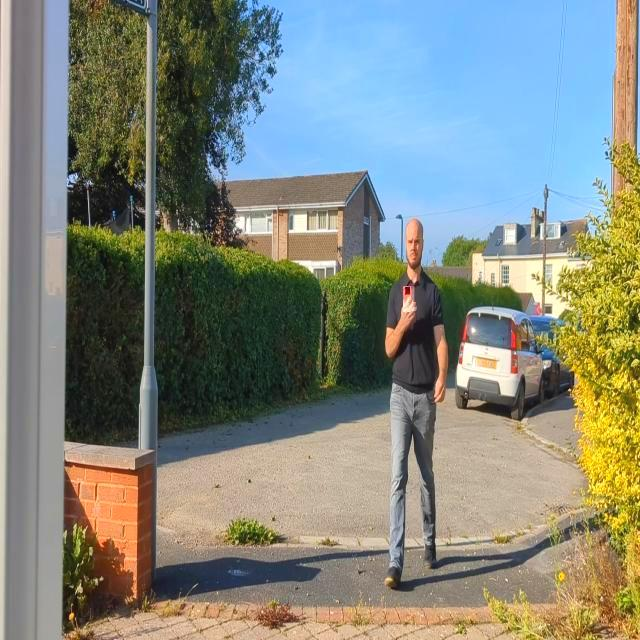lens: (406, 288, 410, 296)
phone: (404, 286, 416, 312)
